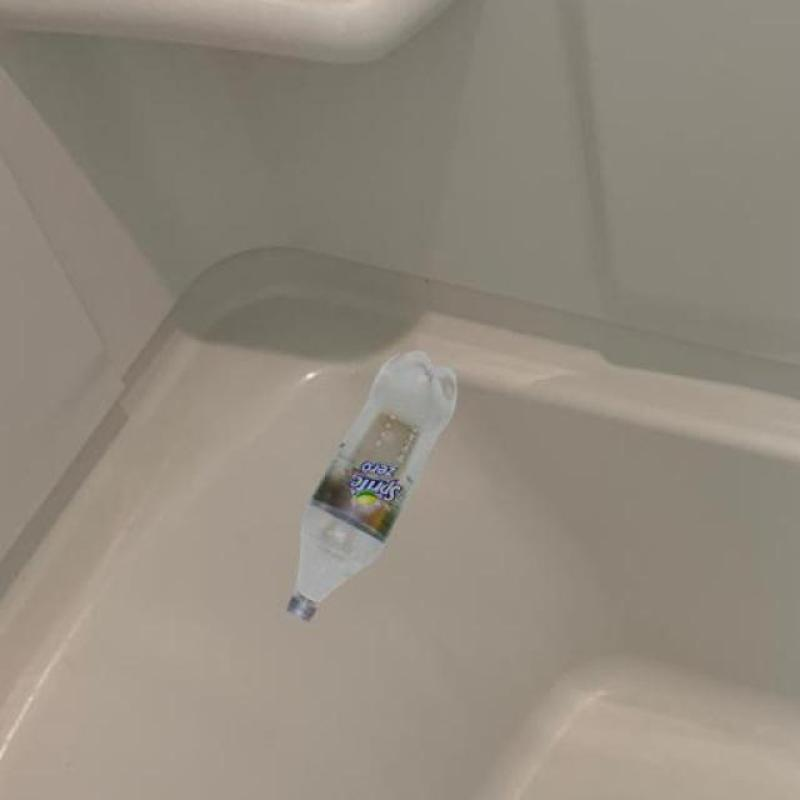botella: (290, 350, 460, 624)
